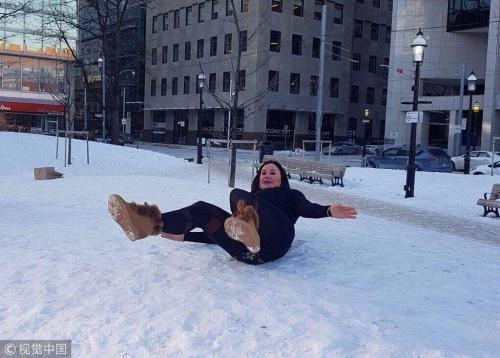Fall-Detected: (99, 146, 353, 274)
